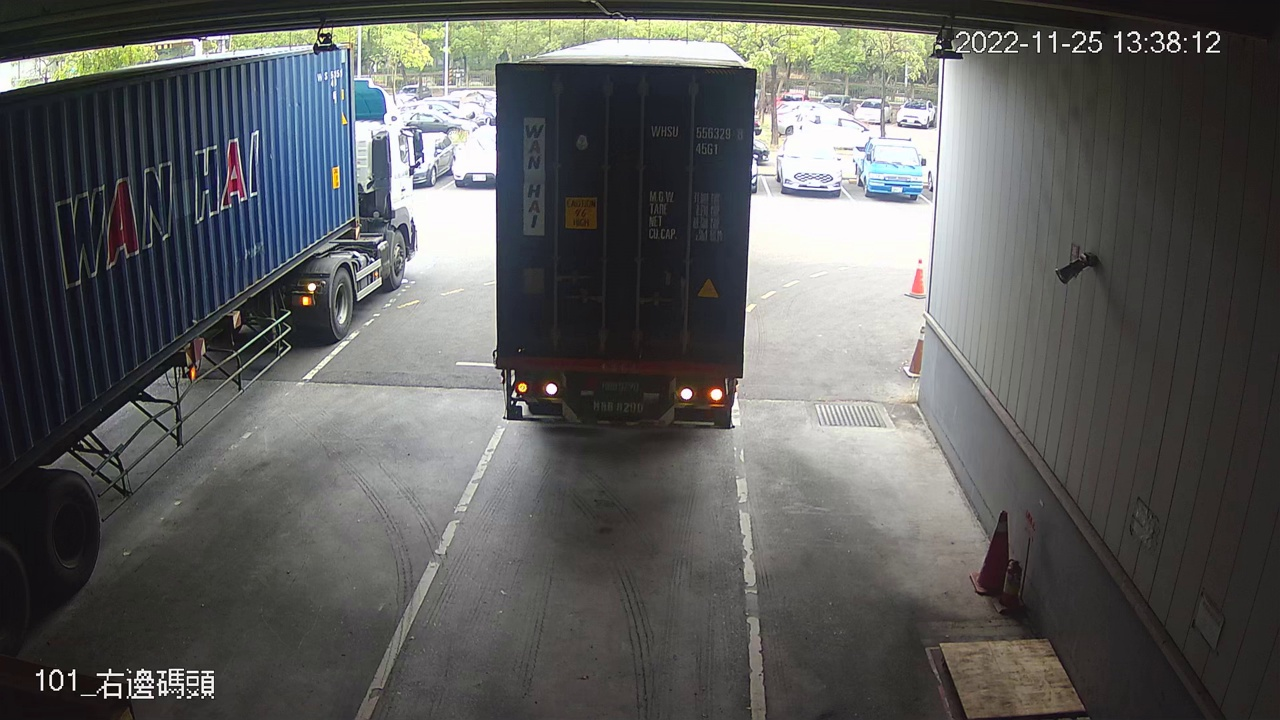container: (648, 119, 746, 161)
